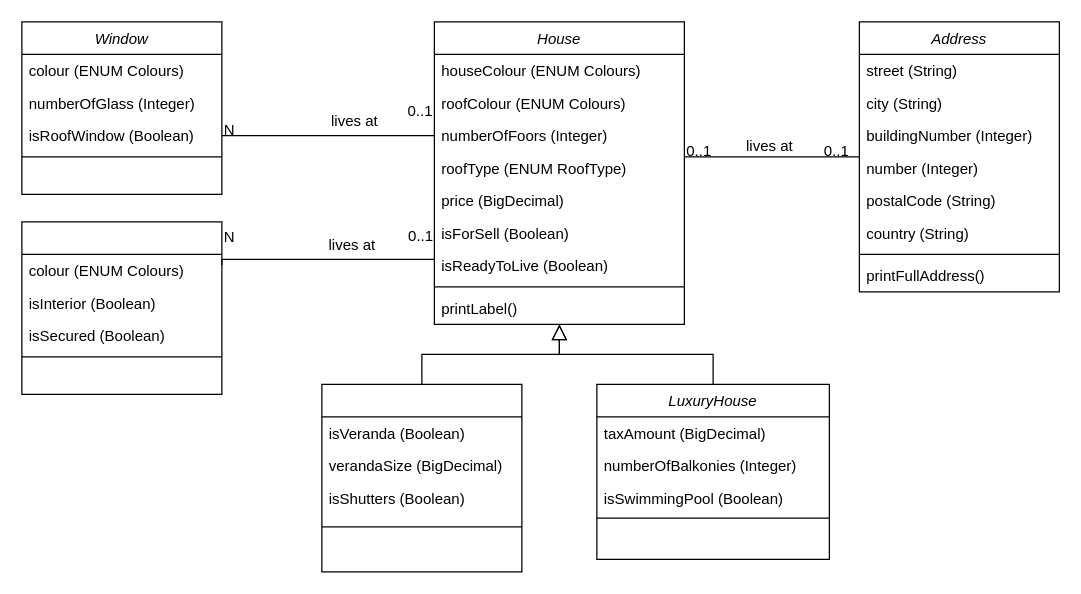
The diagram is 1081 pixels wide and 594 high, and some of its shapes have lost their labels. Here are the shapes that lost their labels. From the top down, the box of each, then its label:
(21, 221, 222, 394): Door
(321, 383, 522, 572): CountryCottage
